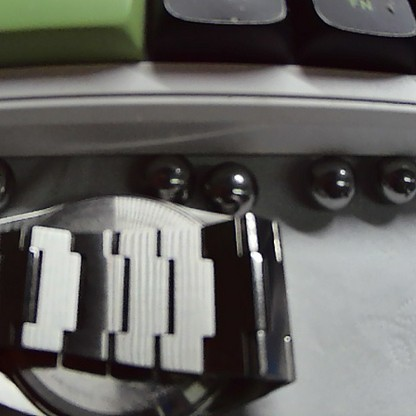ironball: (202, 153, 260, 214), (301, 145, 358, 207), (134, 151, 188, 205), (374, 151, 413, 207)
